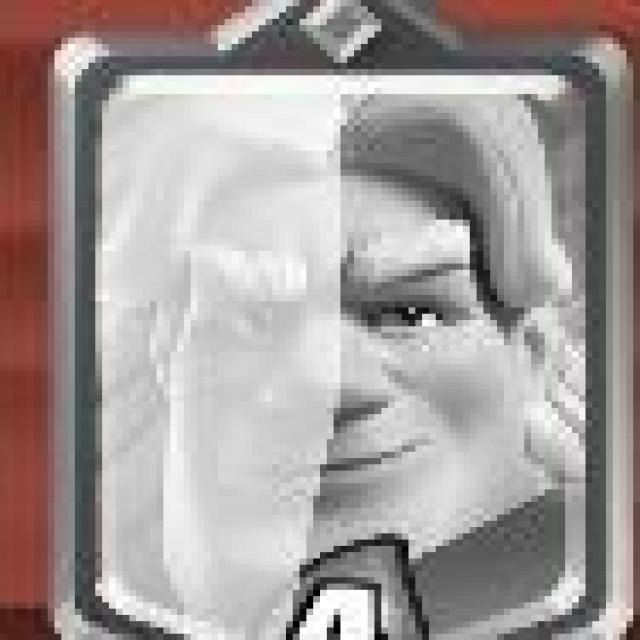Golden_Knight: (47, 32, 636, 640)
